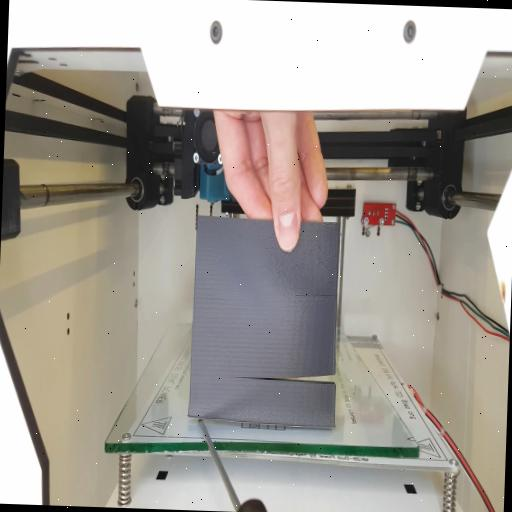cracks: (230, 353, 347, 402), (177, 402, 232, 436)
